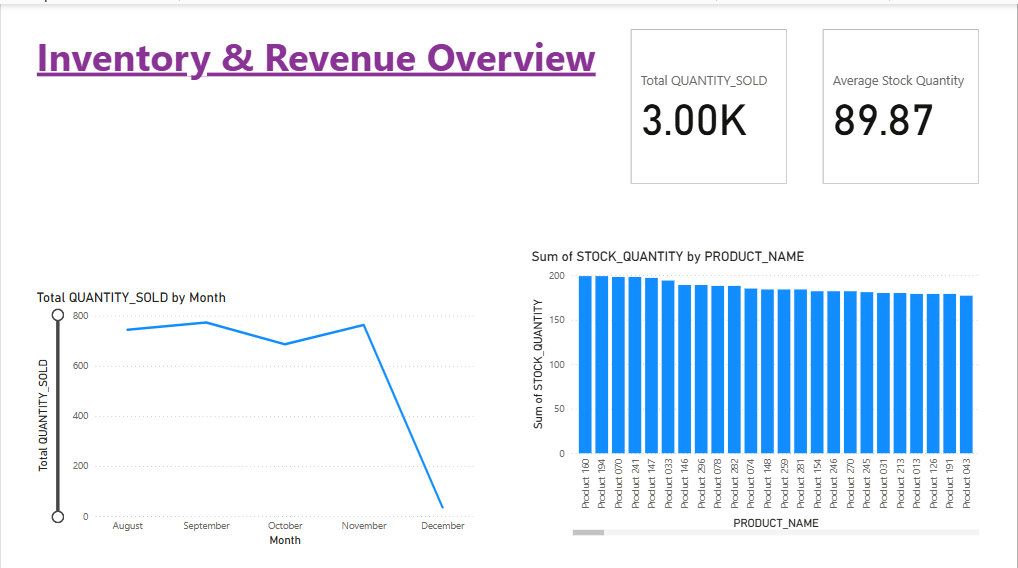

What the dashboard file says about the page in this screenshot:
{"tool":"powerbi","page":{"name":"Page 1","canvas":[1280,720],"ordinal":0},"visuals":[{"type":"cardVisual","fields":{"Data":["SALES.Total QUANTITY_SOLD"]},"box":[788,26.5,207.9,206],"z":0},{"type":"cardVisual","fields":{"Data":["SALES.Average Stock Quantity"]},"box":[1029.9,26.5,207.9,206],"z":1000},{"type":"lineChart","fields":{"Category":["SALES.SALE_DATE.Variation.Date Hierarchy.Month"],"Y":["SALES.Total QUANTITY_SOLD"]},"box":[39.7,359.1,561.3,328.8],"z":2000},{"type":"clusteredColumnChart","fields":{"Category":["PRODUCTS.PRODUCT_NAME"],"Y":["Sum(PRODUCTS.STOCK_QUANTITY)"]},"box":[663.3,308,574.5,366.6],"z":3000},{"type":"textbox","box":[39.7,26.5,720,206],"z":3001}]}

Visuals, with their boxes in screenshot pixels (x1, y1, x2, y2), scaled from the page's 1280x720 canvas onto the 1018x568 screenshot:
cardVisual - SALES.Total QUANTITY_SOLD: x1=627 y1=21 x2=792 y2=183
cardVisual - SALES.Average Stock Quantity: x1=819 y1=21 x2=984 y2=183
lineChart - SALES.SALE_DATE.Variation.Date Hierarchy.Month x SALES.Total QUANTITY_SOLD: x1=32 y1=283 x2=478 y2=543
clusteredColumnChart - PRODUCTS.PRODUCT_NAME x Sum(PRODUCTS.STOCK_QUANTITY): x1=528 y1=243 x2=984 y2=532
textbox: x1=32 y1=21 x2=604 y2=183
